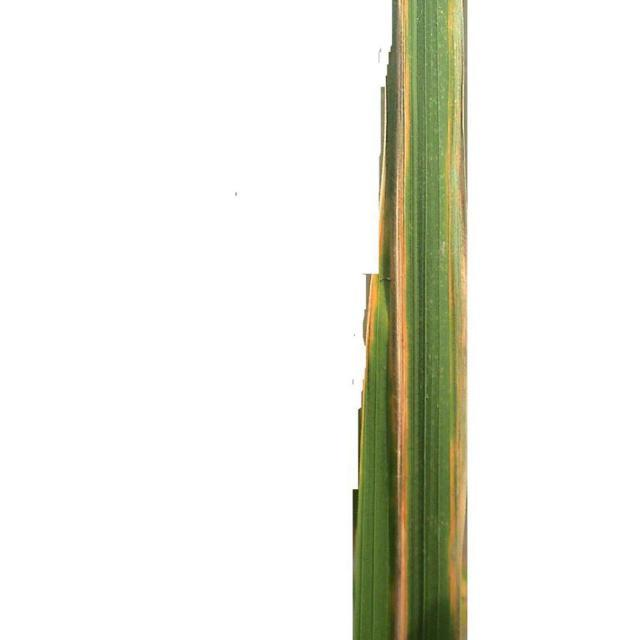leaf blight: (348, 2, 471, 640)
